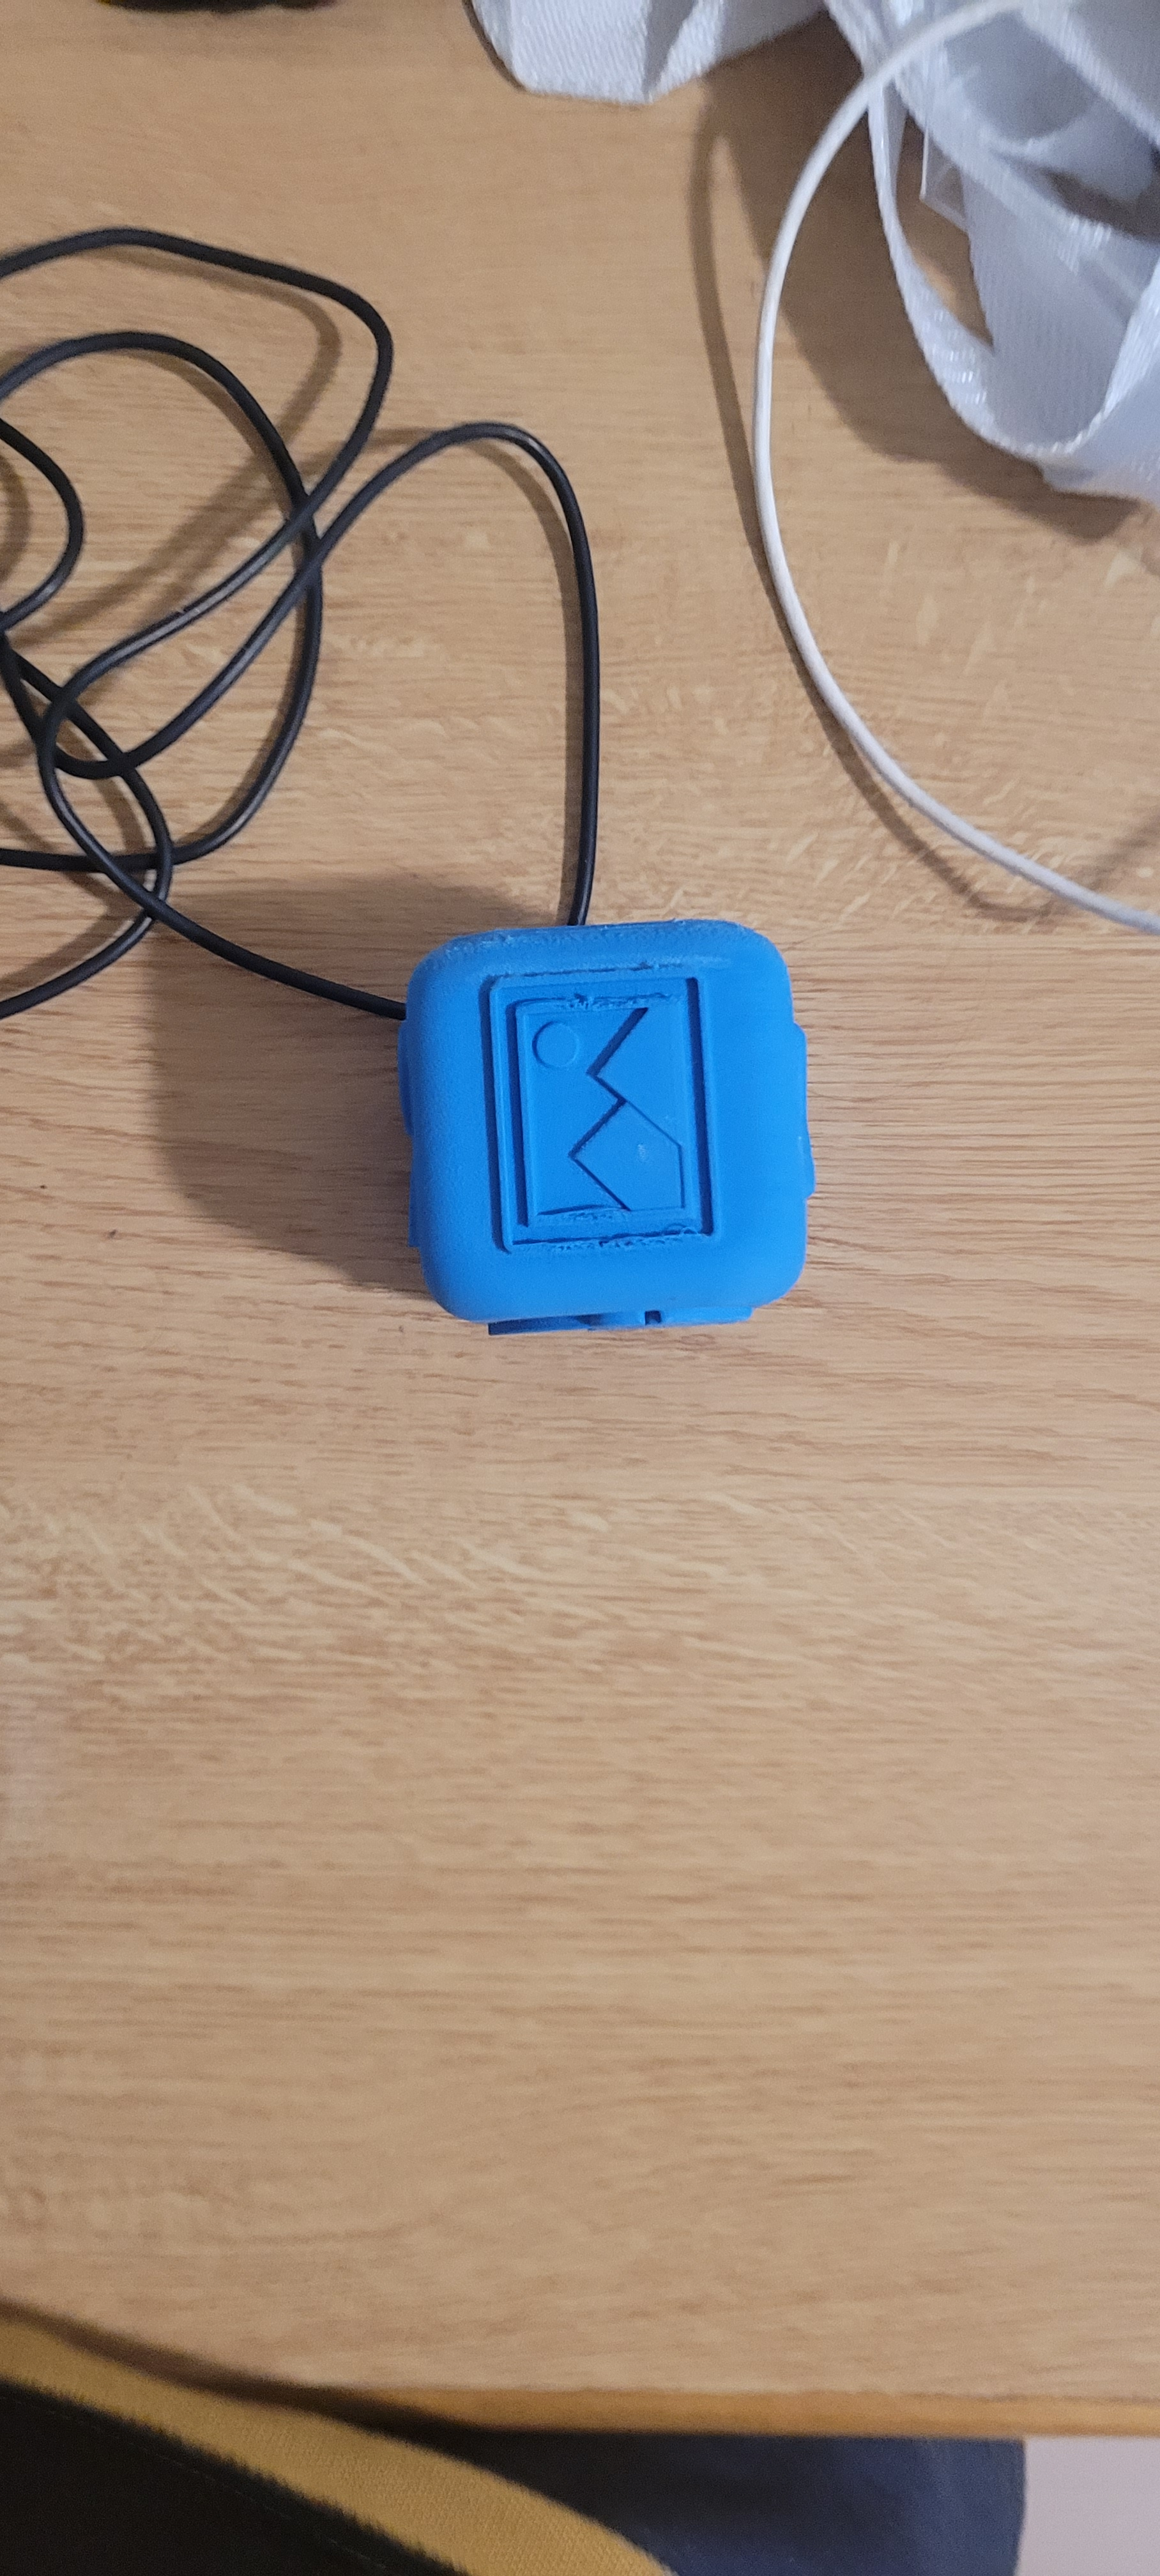Story: (453, 950, 751, 1255)
